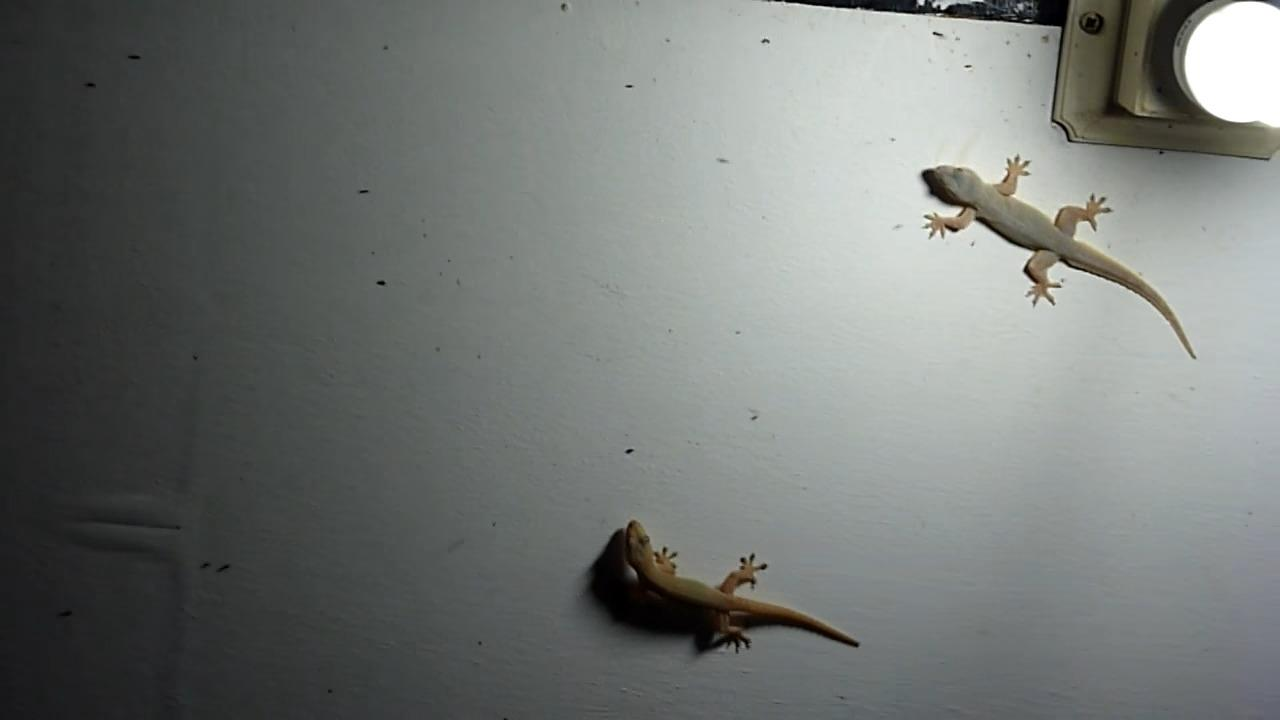lizard: (923, 143, 1229, 360), (601, 521, 930, 657)
